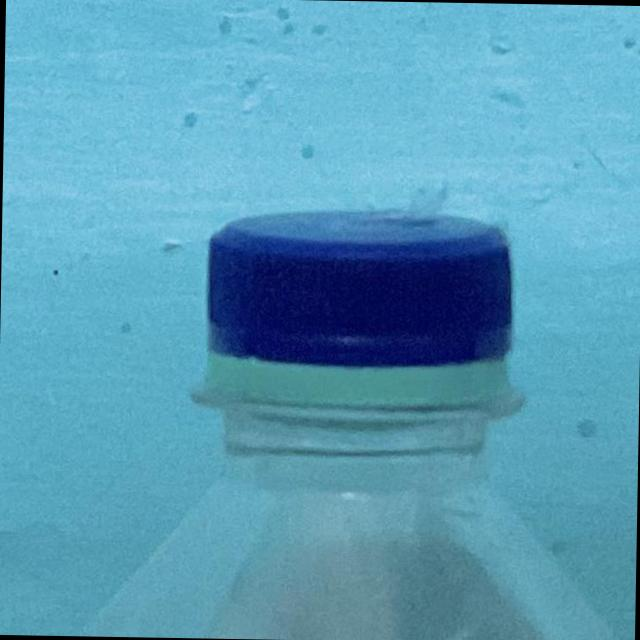Good-cap-Df0S: (184, 202, 527, 423)
